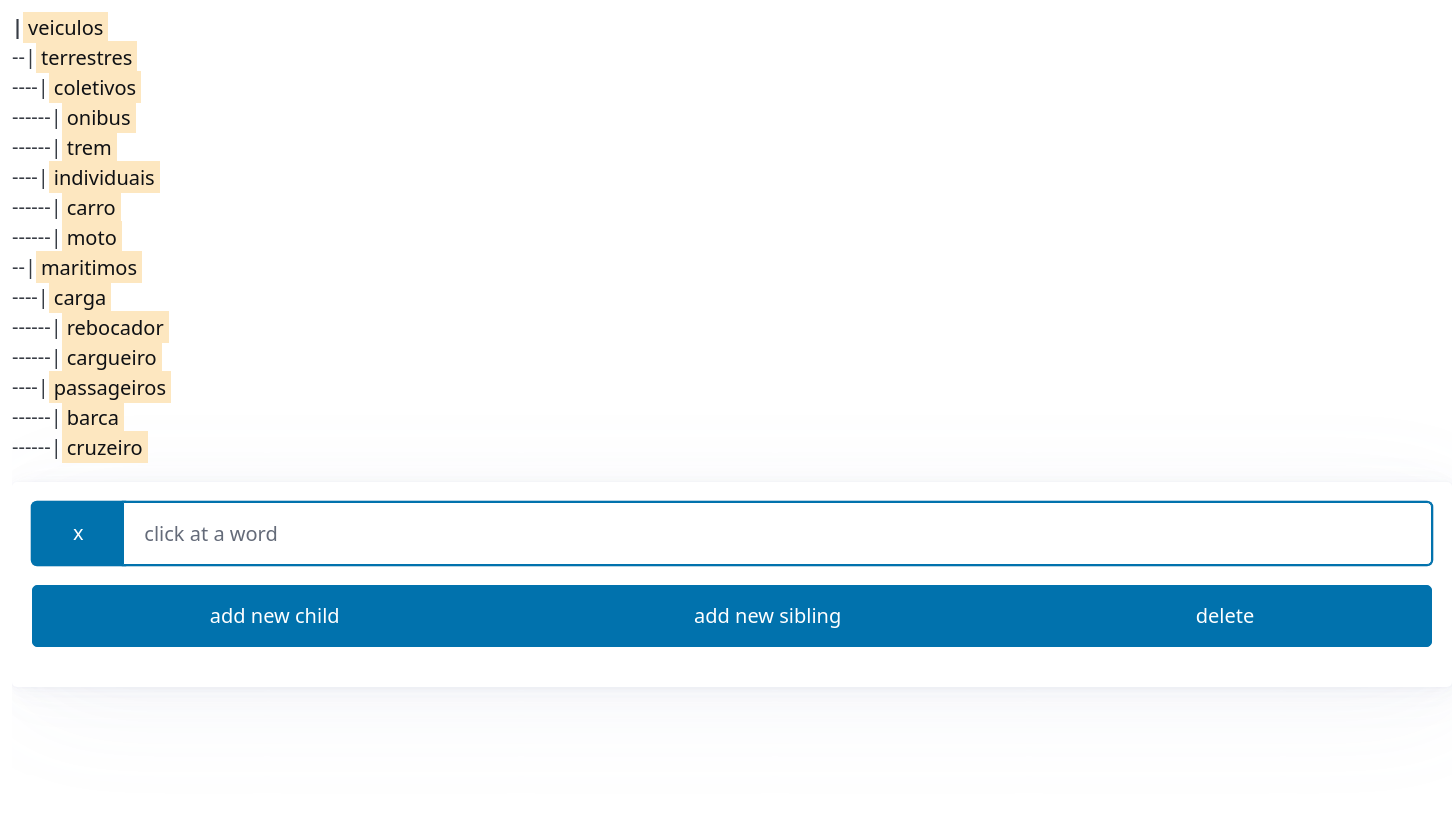
Test case: allows editting keys at focus
Click the text "carro". click: click(91, 206)
box: [62,190,121,222]
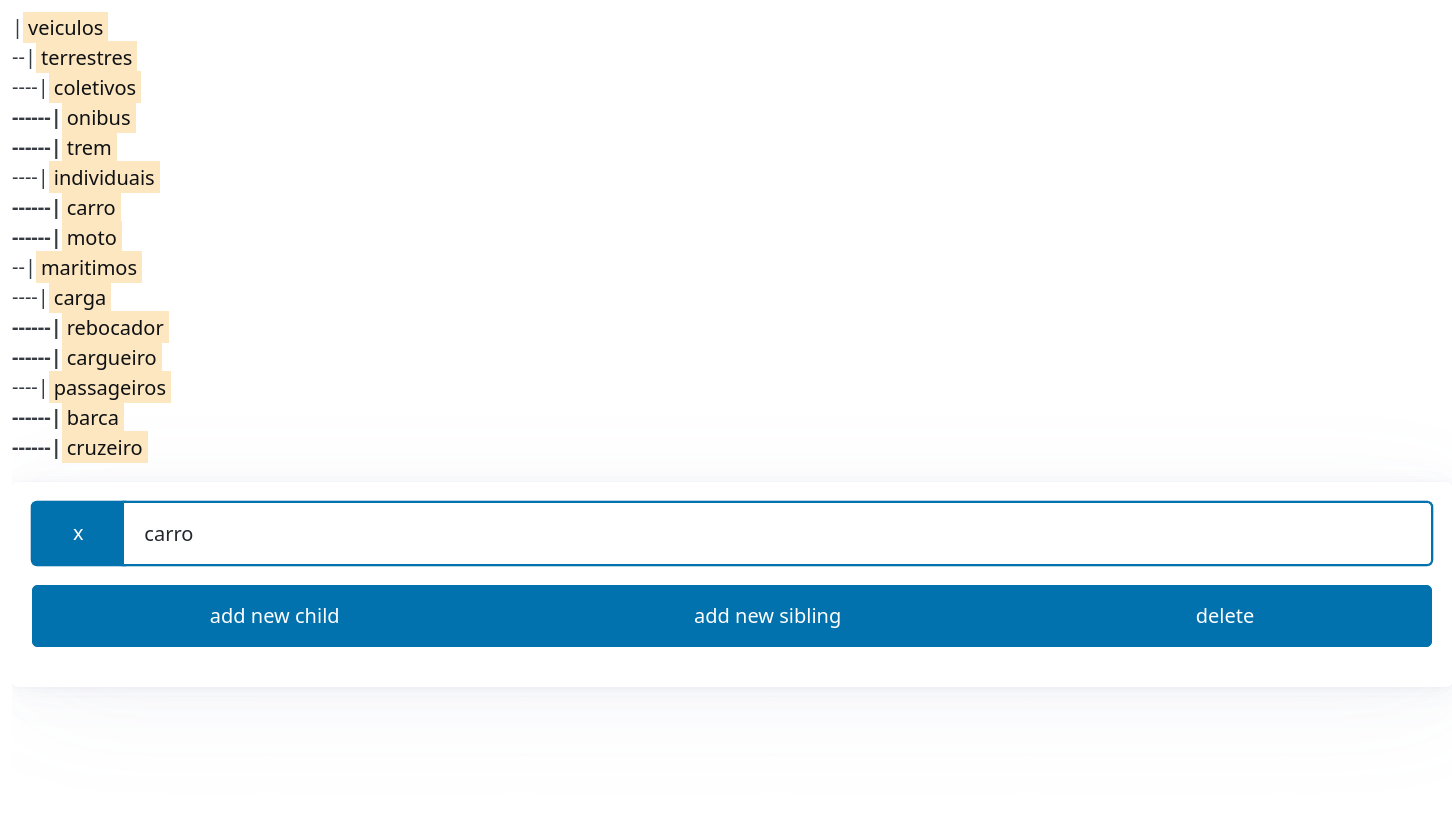
Expected: the field with placeholder "click at a word" holds "carro"
Replace the text in the field with placeholder "click at a word" with "car". click: (778, 533)
box: [123,502,1432,564]
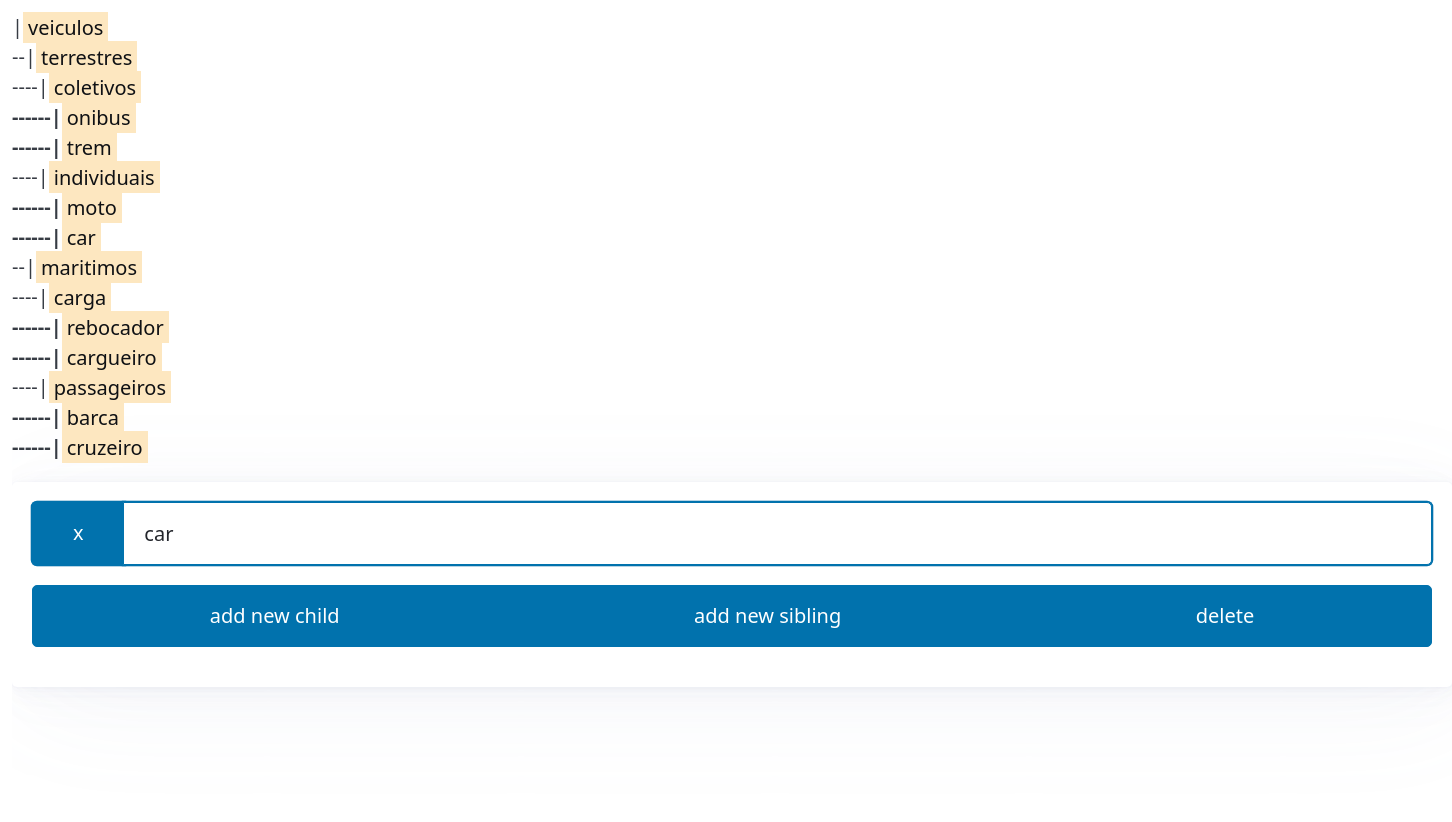
Click the text "maritimos". click: click(89, 266)
box: [36,250,142,282]
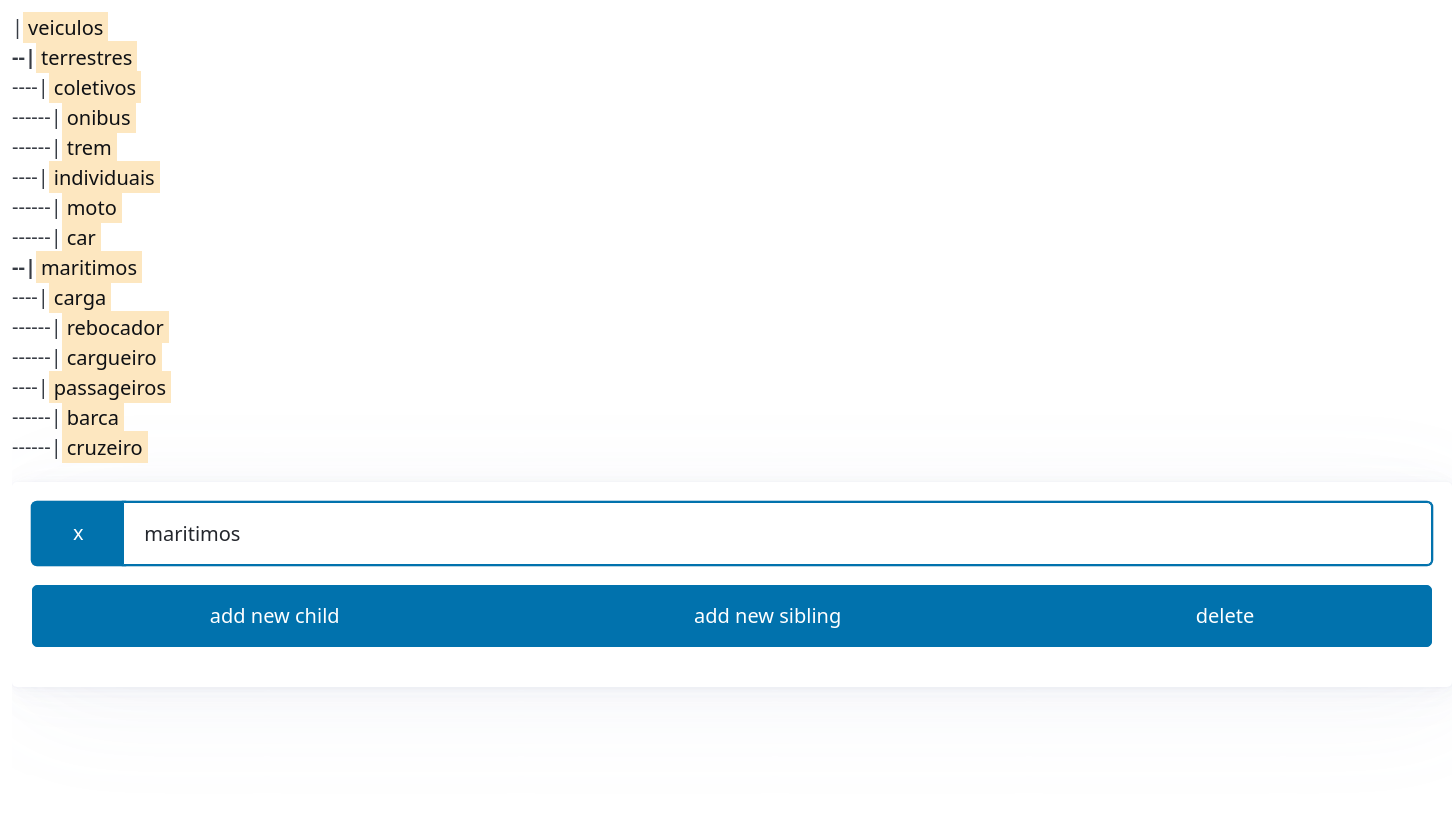
Expected: the text "car" is shown, [62,220,101,252]
Expected: the field with placeholder "click at a word" holds "maritimos", [123,502,1432,564]
